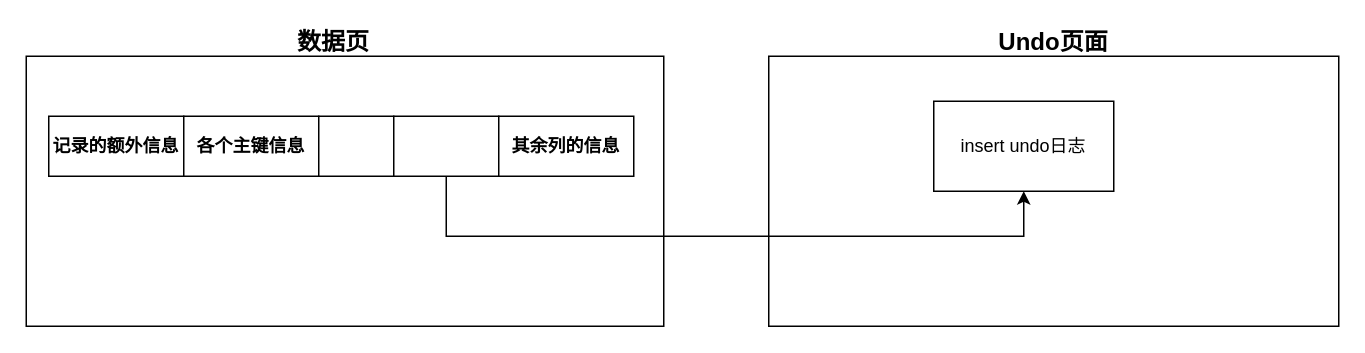
The diagram is 1365 pixels wide and 353 high, and some of its shapes have lost their labels. The centre of each missing label's shape, as x and y in pixels:
"roll_pointer" goes at point (445, 145).
"trx_id" goes at point (355, 145).
